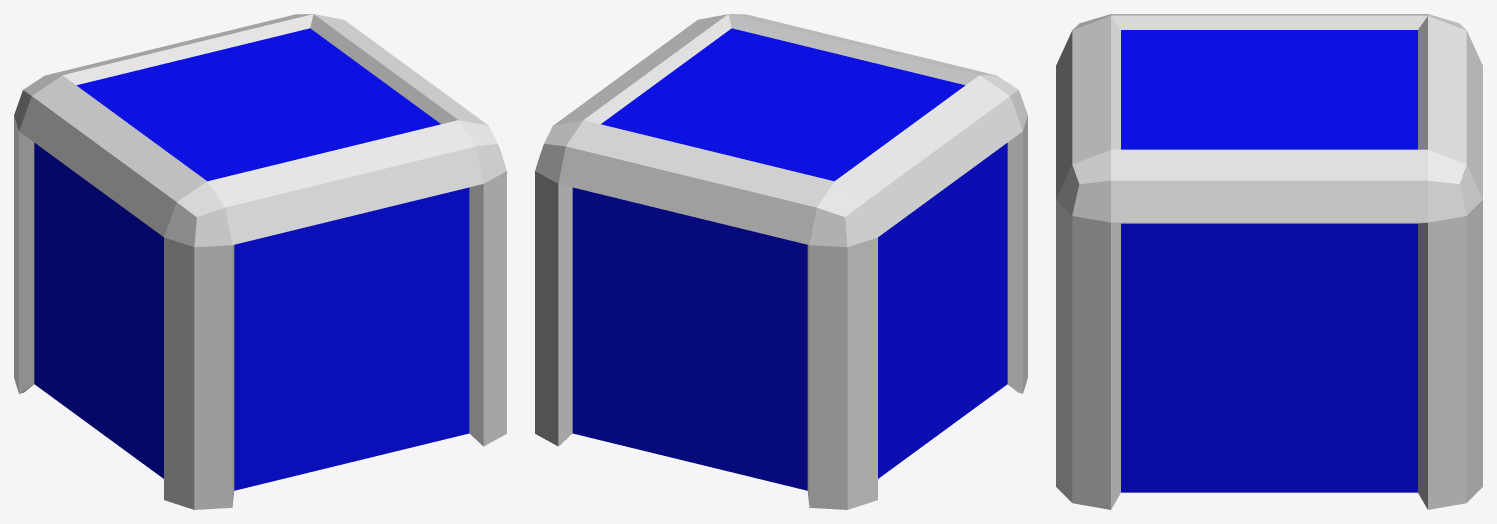
The model's file is ContainerFactory.fbx.
3 views of the same model, side by side, from view 1: azimuth 30°, elevation 25°; view 2: azimuth 150°, elevation 25°; view 3: azimuth 270°, elevation 25° (orthographic). The views are drawn at different scales.
Visible parts, largest first — view 1: Cube; view 2: Cube; view 3: Cube.
Part boxes in pixels (left/top/right/bottom): Cube: left=14, top=14, right=506, bottom=509; Cube: left=535, top=14, right=1027, bottom=509; Cube: left=1056, top=14, right=1482, bottom=509.
Size of the model in its own units: 200 by 174 by 200.
